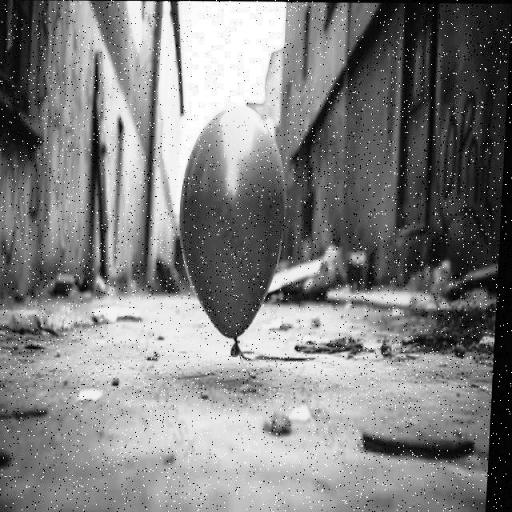balloon: (170, 98, 296, 378)
